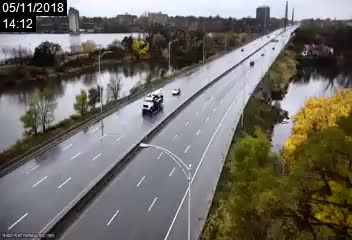personal_car: (171, 87, 182, 96)
truck: (140, 91, 164, 116)
